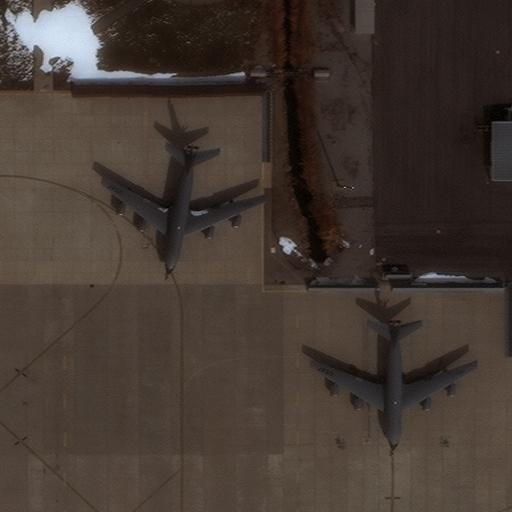Military Transport: (309, 323, 479, 449), (102, 148, 268, 277)
